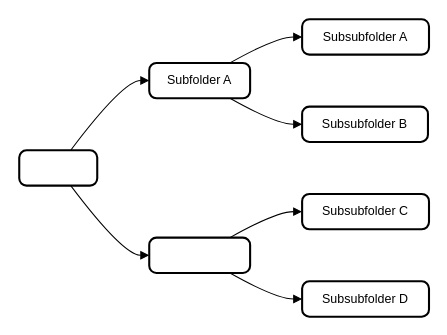
Image size: 447x335. Some labels were removed from this diagram. Here are the shapes that lost their labels. From the top down, the centre of each, then its label:
At point 58,167: "Folder A".
At point 199,255: "Subfolder B".
